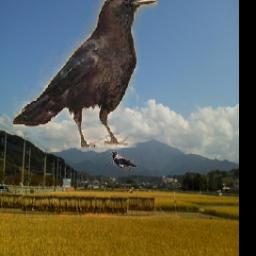Crow: (13, 0, 158, 148), (110, 152, 137, 172)
